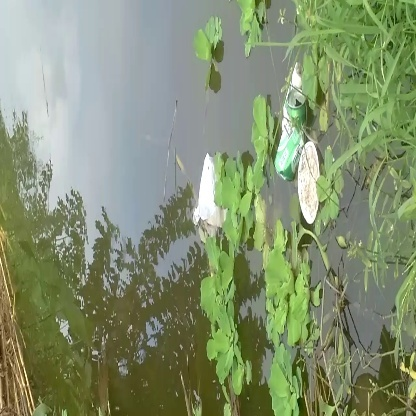bottle: (269, 89, 316, 184)
